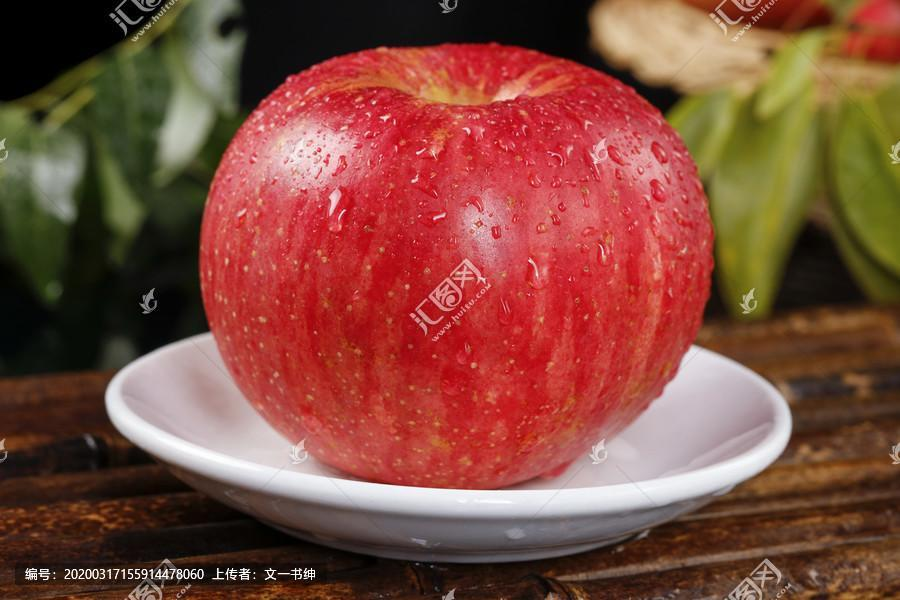apple: (195, 34, 714, 489)
